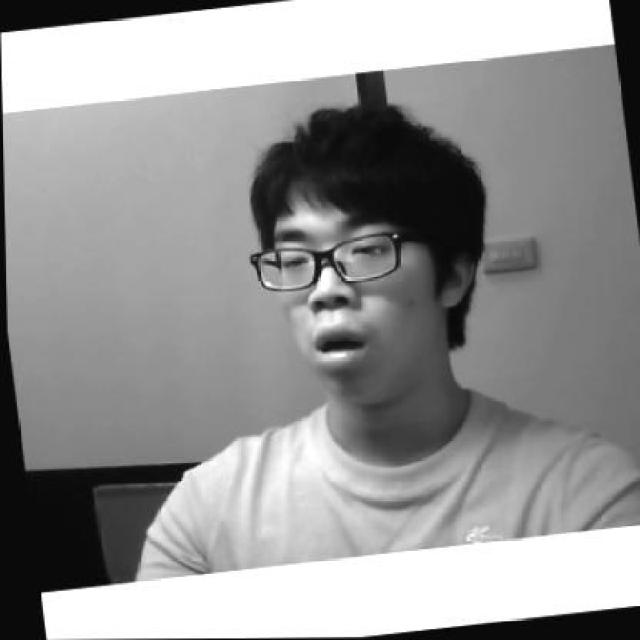inattentif: (228, 91, 492, 420)
